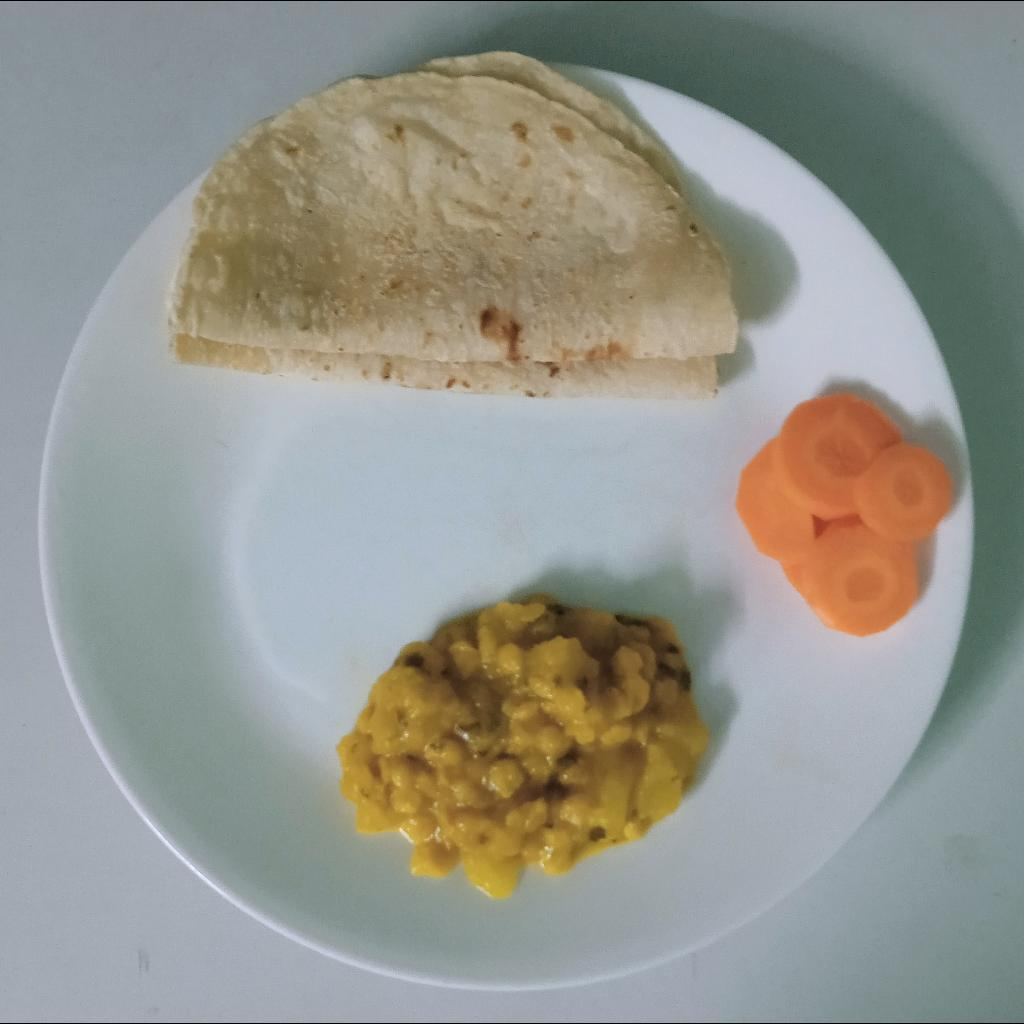carrot: (737, 395, 955, 639)
daal: (338, 596, 709, 900)
ruti: (168, 55, 741, 403)
